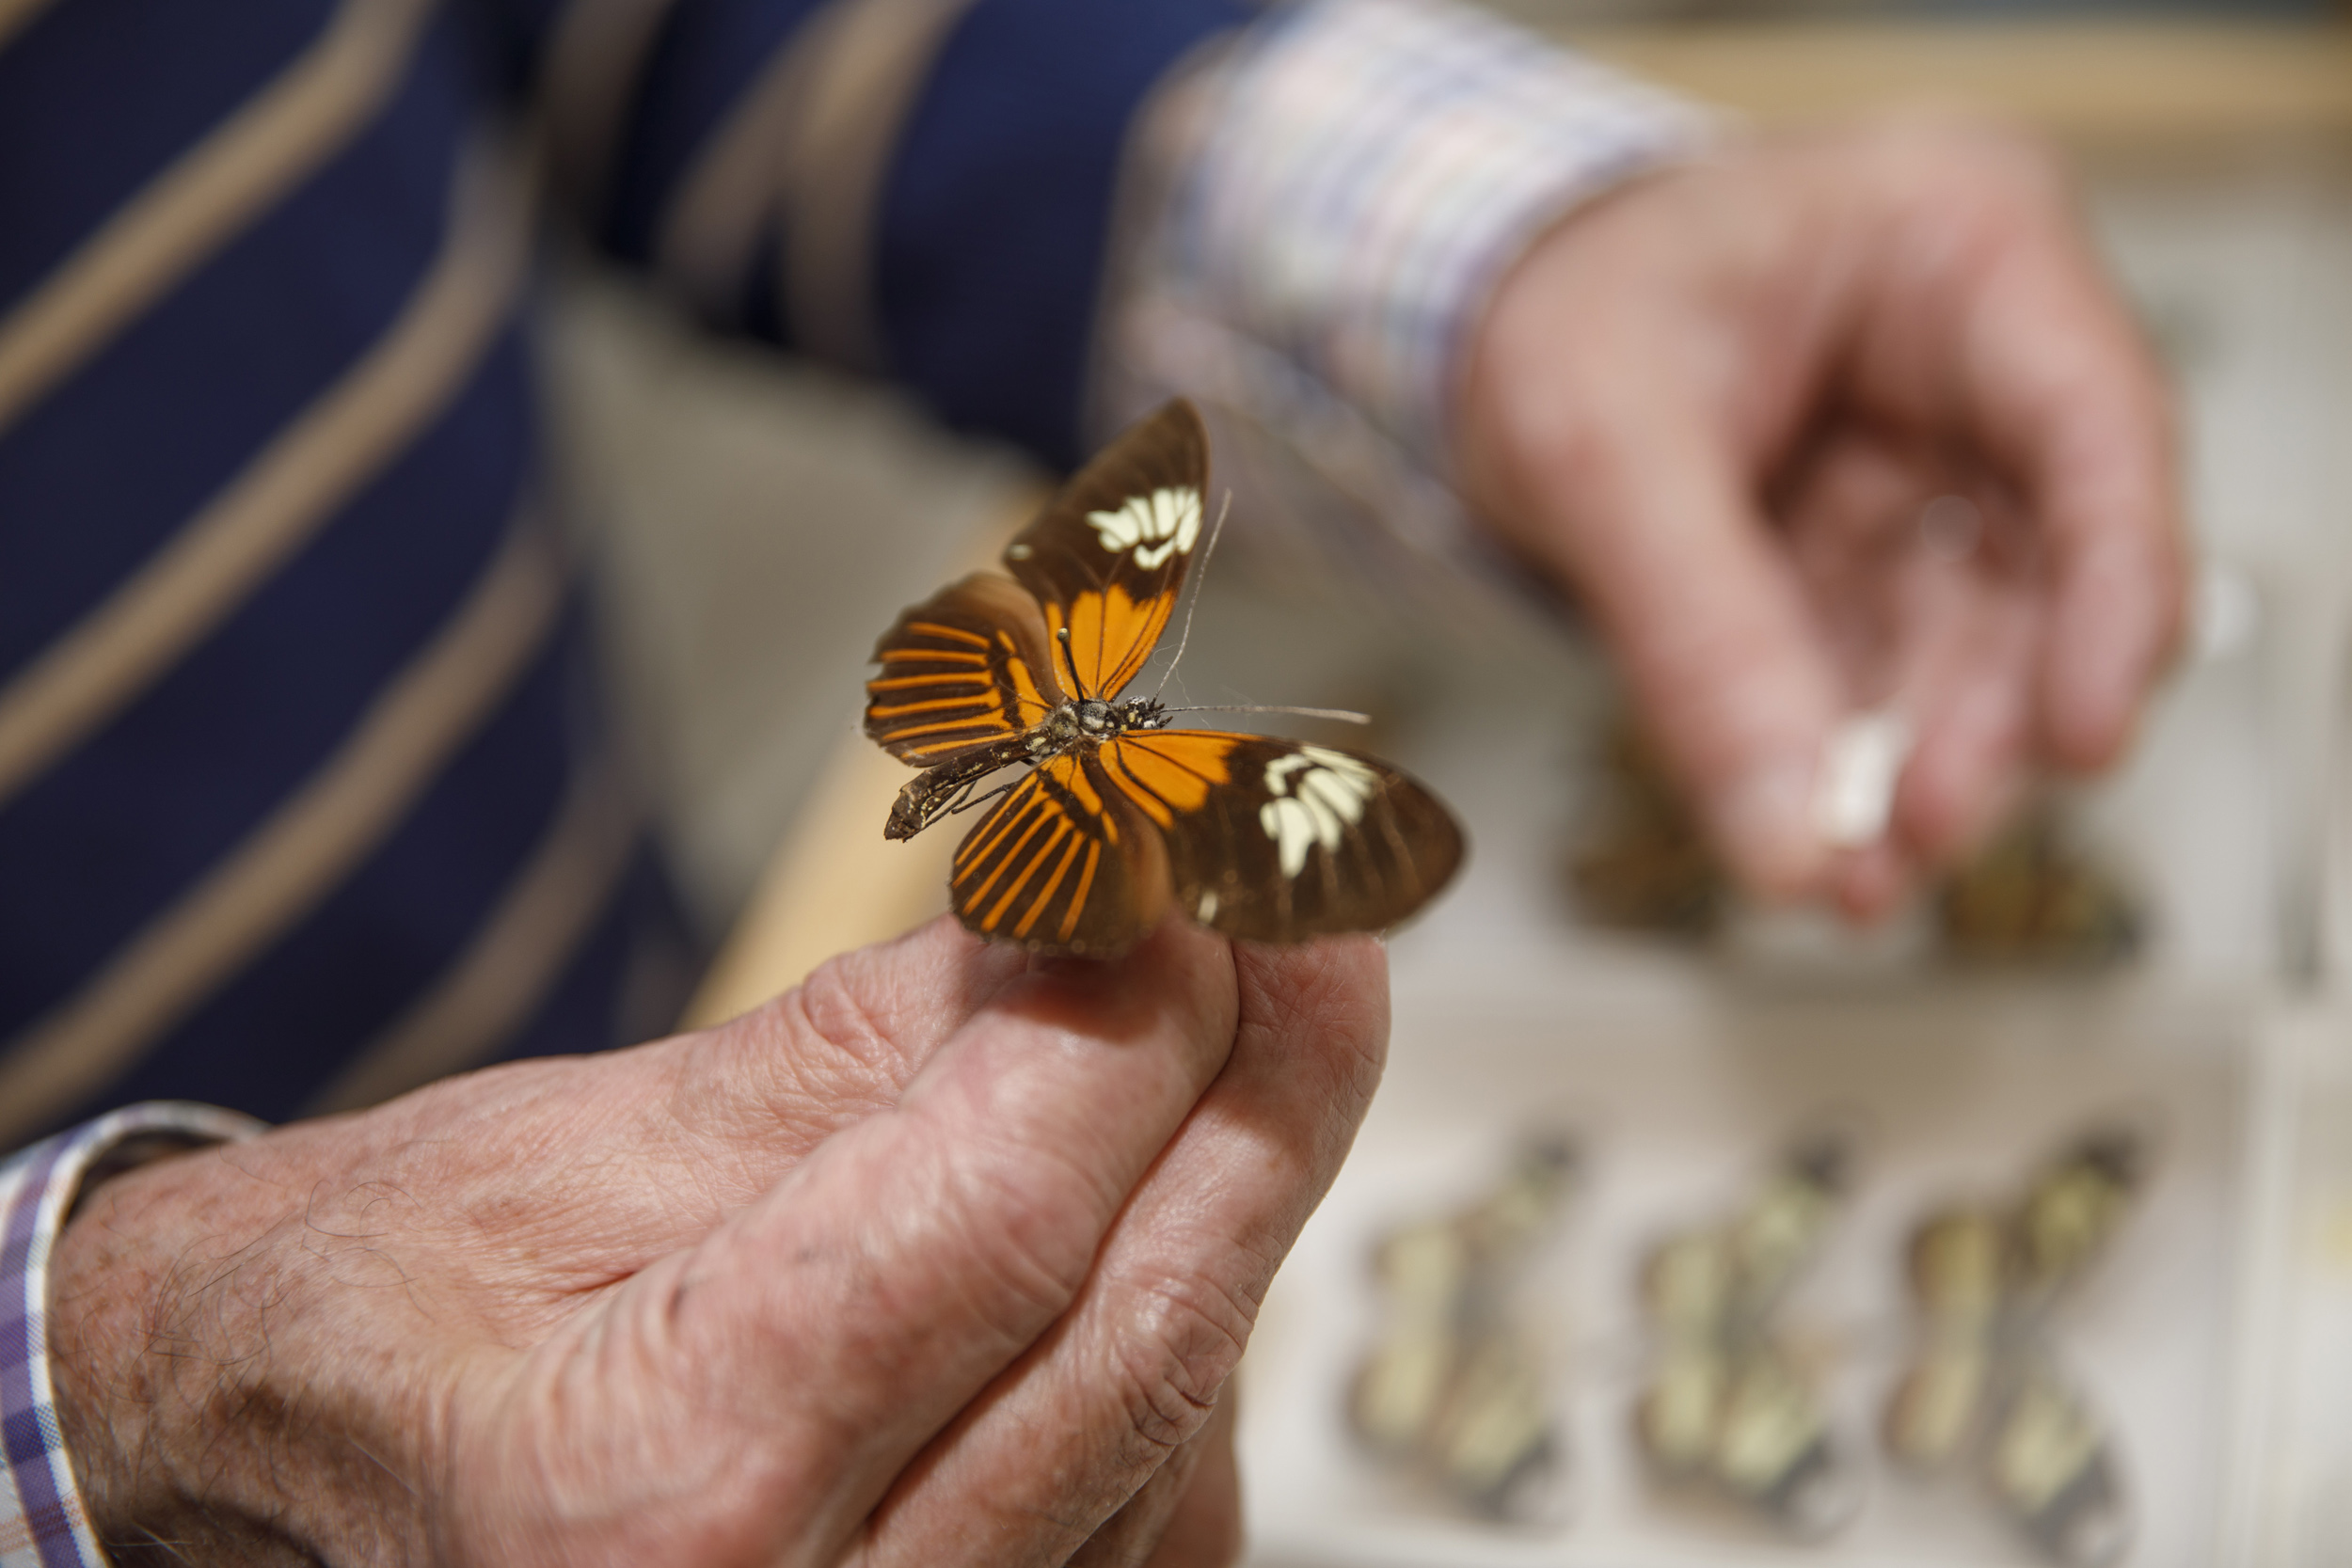Butterfly: (859, 395, 1484, 975)
